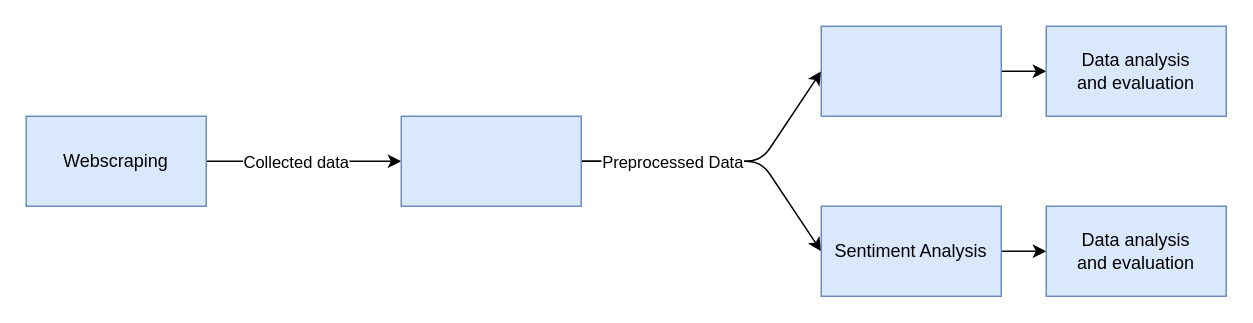
The diagram is 1253 pixels wide and 323 high, and some of its shapes have lost their labels. Each missing label, with the centre of its shape:
Preprocessing: the point at 490,160
Topic Modelling using LDA: the point at 910,70
